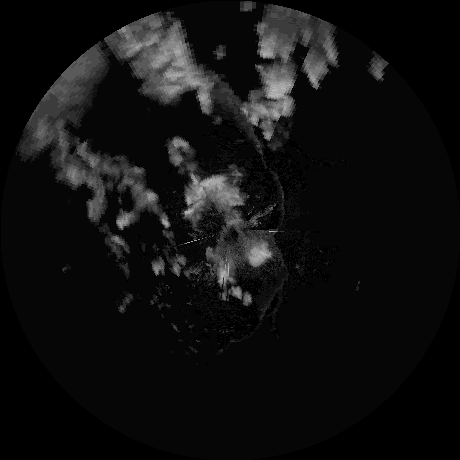frontgust: (251, 133, 286, 233), (257, 251, 289, 329)
